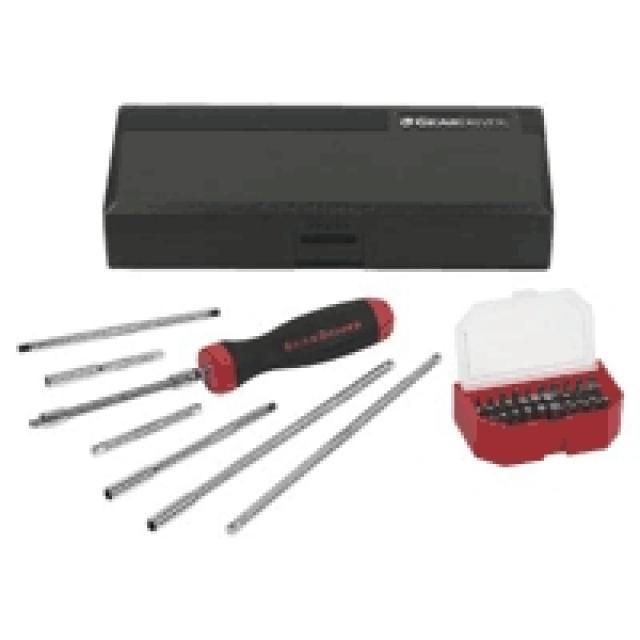screwdriver: (11, 290, 406, 432)
